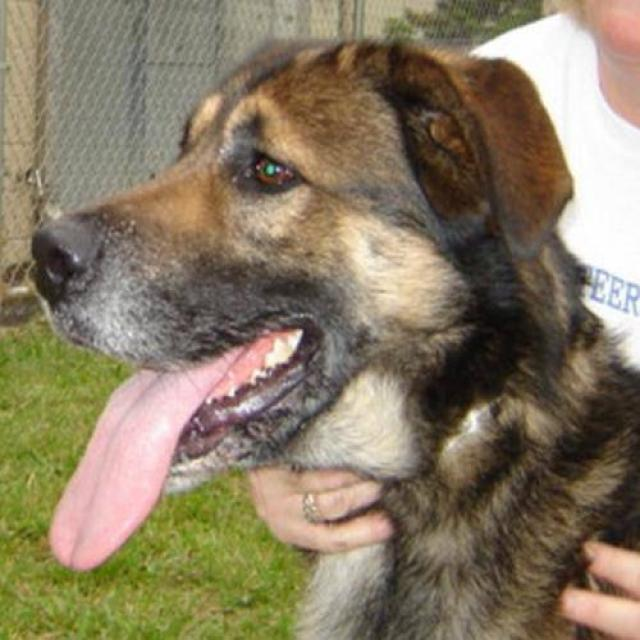Dog: (28, 31, 568, 572)
